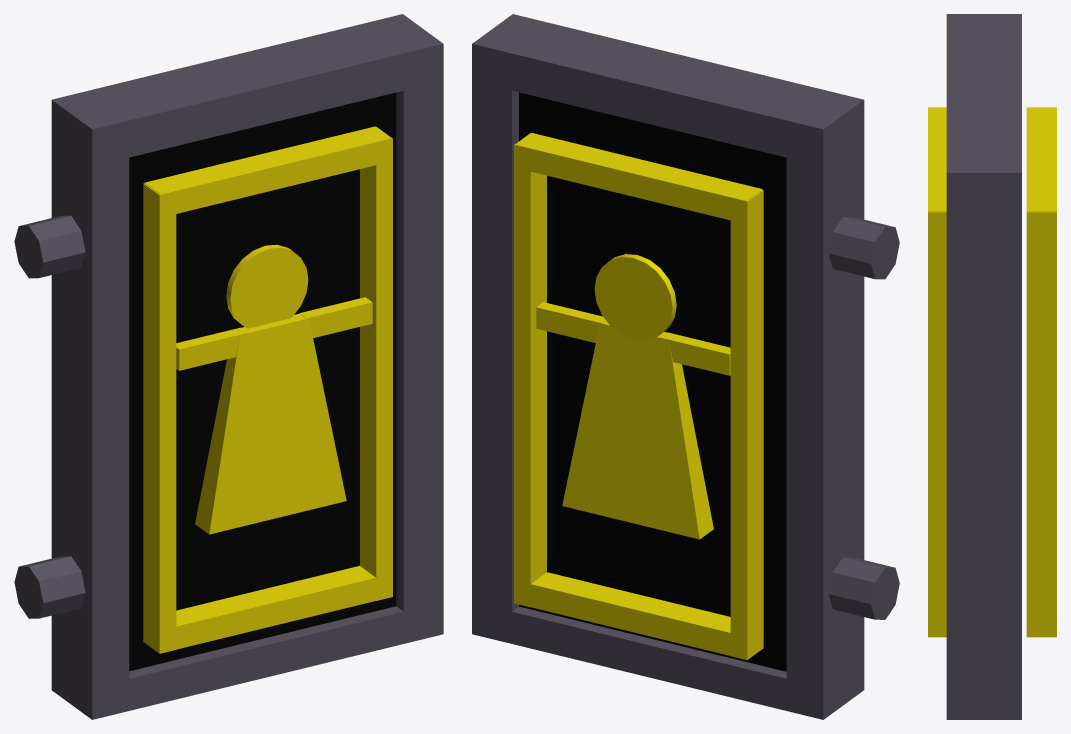
Rendered from Neon_person_ver2_rectangle.fbx.
3 views of the same model, side by side, from view 1: azimuth 30°, elevation 25°; view 2: azimuth 150°, elevation 25°; view 3: azimuth 270°, elevation 25° (orthographic). The views are drawn at different scales.
Visible parts, largest first — view 1: NeonSign_Rectangle7, Neon_person_ver2_rectangle; view 2: NeonSign_Rectangle7, Neon_person_ver2_rectangle; view 3: NeonSign_Rectangle7, Neon_person_ver2_rectangle.
Boxes of the visible parts, left/top/right/bottom form: NeonSign_Rectangle7: left=14, top=14, right=443, bottom=719; Neon_person_ver2_rectangle: left=143, top=126, right=392, bottom=653; NeonSign_Rectangle7: left=472, top=14, right=899, bottom=719; Neon_person_ver2_rectangle: left=514, top=133, right=763, bottom=659; NeonSign_Rectangle7: left=946, top=14, right=1021, bottom=719; Neon_person_ver2_rectangle: left=928, top=107, right=1056, bottom=637.
Bounding box in the file's own units: 1.12 × 1.61 × 0.3427.
